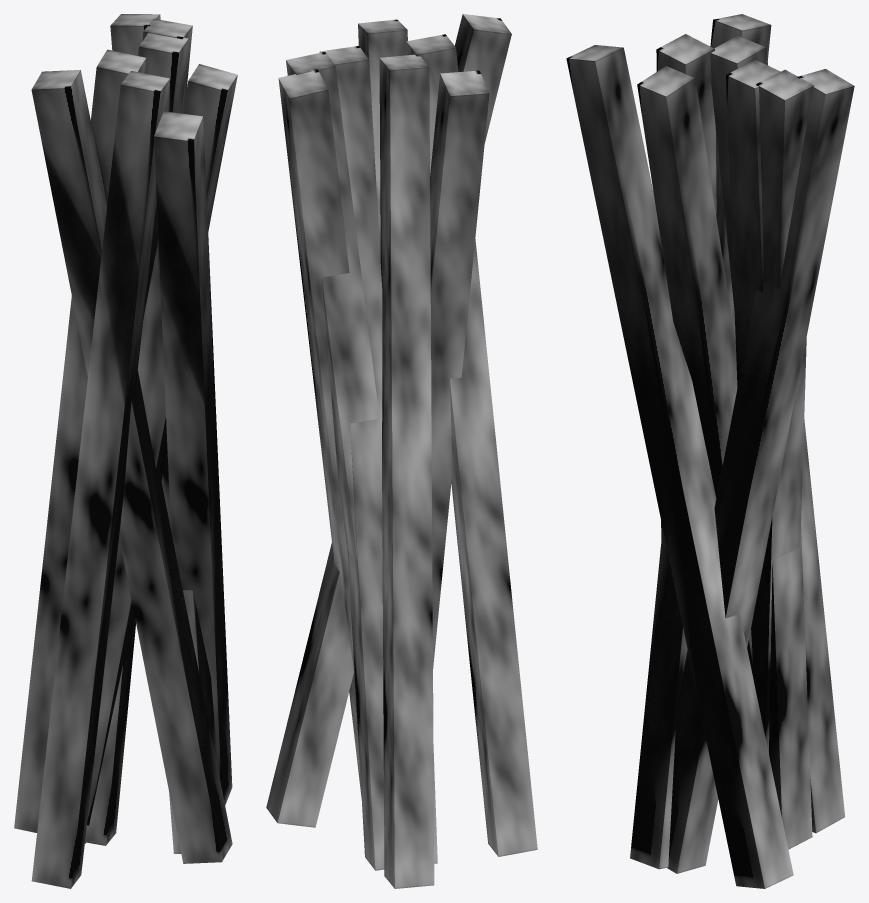
The model's file is fiber_bundle.glb.
The picture shows the model from 3 angles, left to right: view 1: azimuth 30°, elevation 25°; view 2: azimuth 150°, elevation 25°; view 3: azimuth 270°, elevation 25°; orthographic projection.
Visible parts, largest first — view 1: fiber_bundle; view 2: fiber_bundle; view 3: fiber_bundle.
Part boxes in pixels (box(x1,y1,x2,y2)): fiber_bundle: box(14, 14, 237, 888); fiber_bundle: box(266, 14, 537, 888); fiber_bundle: box(566, 14, 854, 888).
Size of the model in its own units: 0.0757 by 0.2404 by 0.0788.
Materials: 1 (1 with a texture image).
